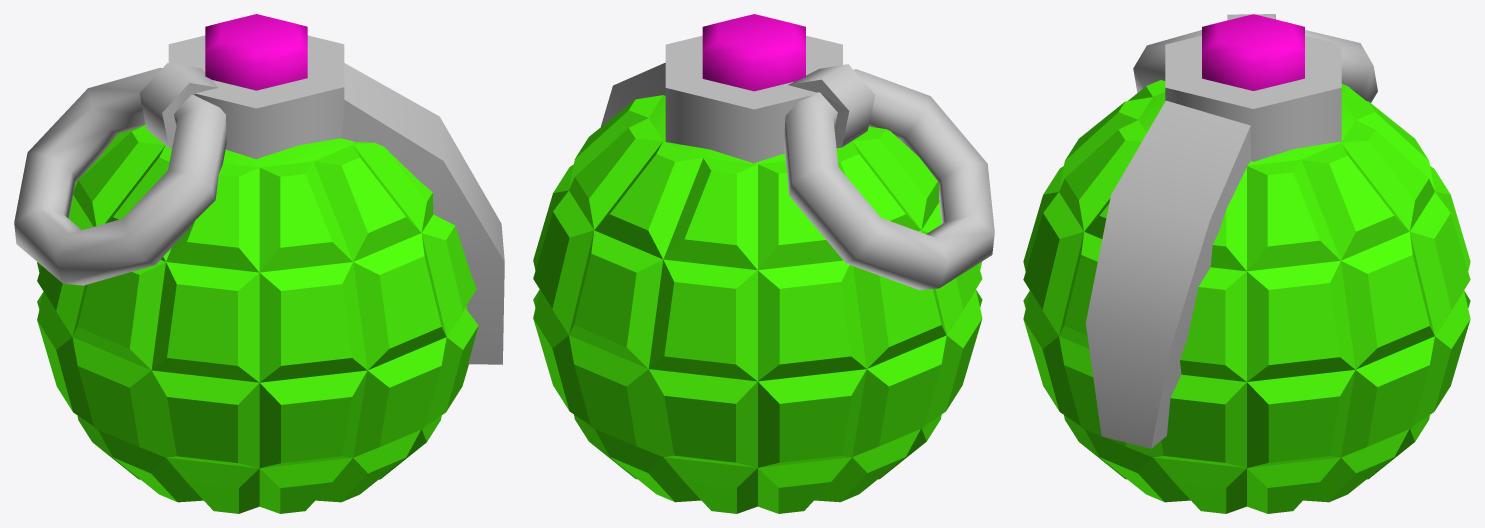
Rendered from M_Grenade.FBX.
3 renders of one model, left to right at view 1: azimuth 30°, elevation 25°; view 2: azimuth 150°, elevation 25°; view 3: azimuth 270°, elevation 25°, orthographic.
Parts seen in each view (by area): view 1: M_Grenade; view 2: M_Grenade; view 3: M_Grenade.
Boxes of the visible parts, <box> form: M_Grenade: <box>14,14,504,513</box>; M_Grenade: <box>533,14,994,513</box>; M_Grenade: <box>1023,14,1470,513</box>.
Bounding box in the file's own units: 13.38 × 13.68 × 12.17.
